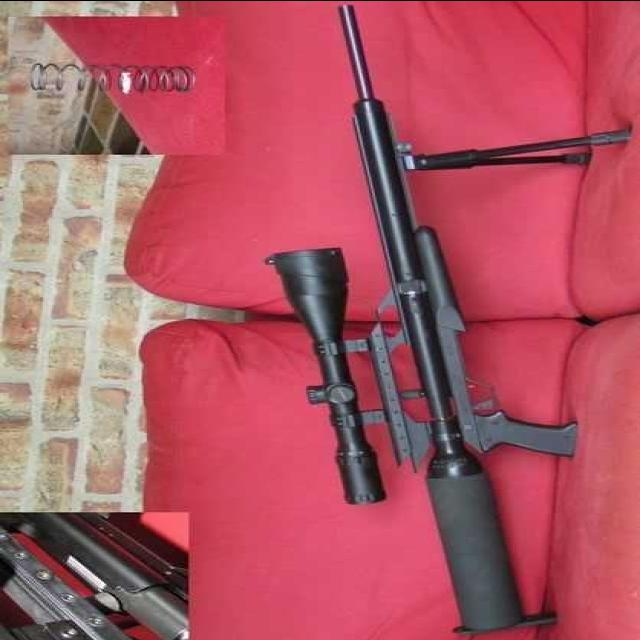heavyweapon: (286, 1, 640, 640)
